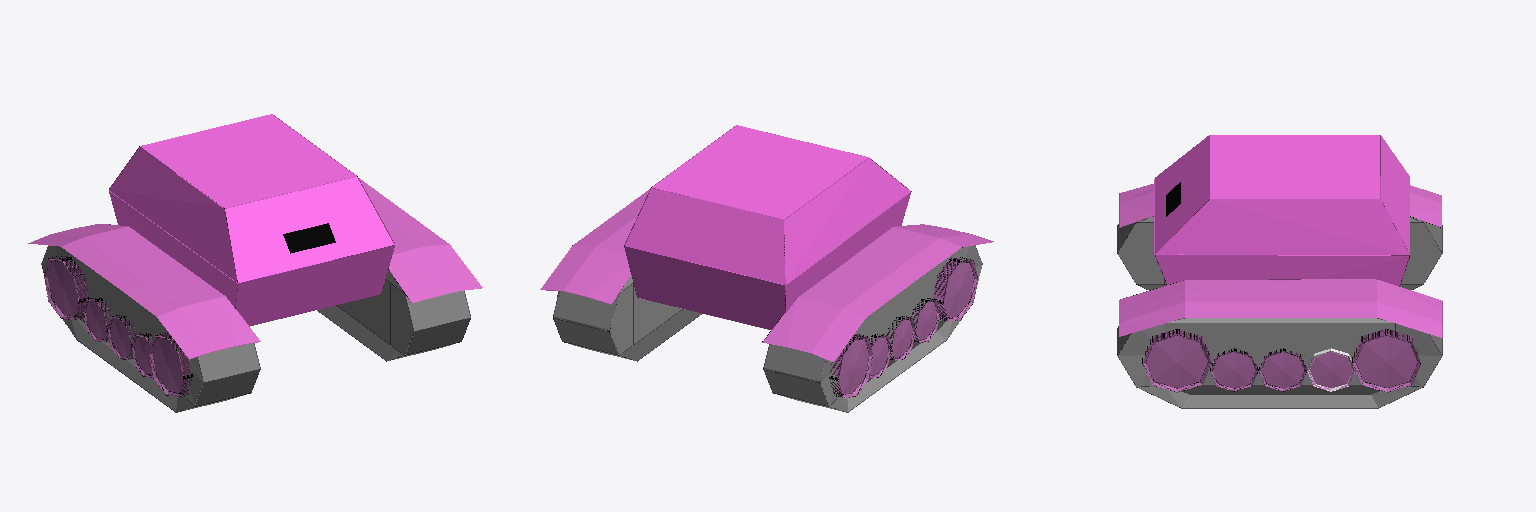
3 renders of one model, left to right at view 1: azimuth 30°, elevation 25°; view 2: azimuth 150°, elevation 25°; view 3: azimuth 270°, elevation 25°, orthographic.
Parts seen in each view (by area): view 1: body, textureEditorIsolateSelectSet body; view 2: textureEditorIsolateSelectSet body, body; view 3: body, textureEditorIsolateSelectSet body.
Part boxes in pixels (left/top/right/bottom): body: left=28, top=178, right=482, bottom=412; textureEditorIsolateSelectSet body: left=109, top=114, right=394, bottom=326; textureEditorIsolateSelectSet body: left=624, top=125, right=911, bottom=329; body: left=540, top=188, right=993, bottom=412; body: left=1117, top=177, right=1442, bottom=408; textureEditorIsolateSelectSet body: left=1154, top=135, right=1409, bottom=286.
Bounding box in the file's own units: 1.28 × 0.7438 × 1.23.
Materials: 1 (1 with a texture image).